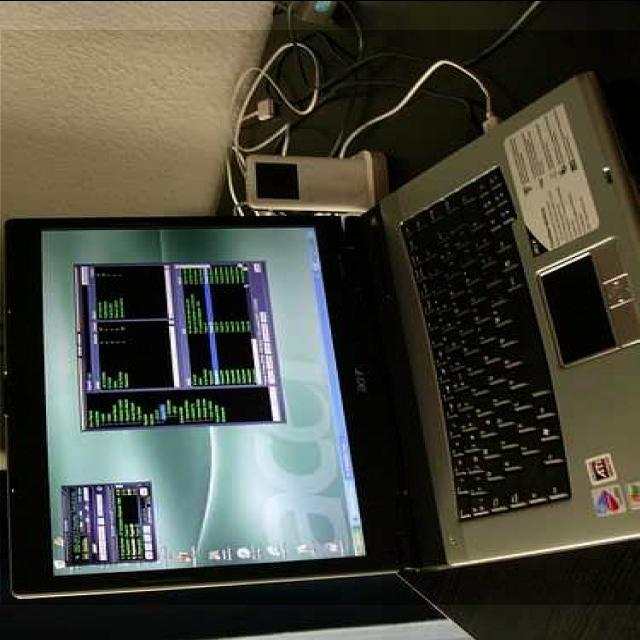-keyboard-: (1, 30, 640, 605)
